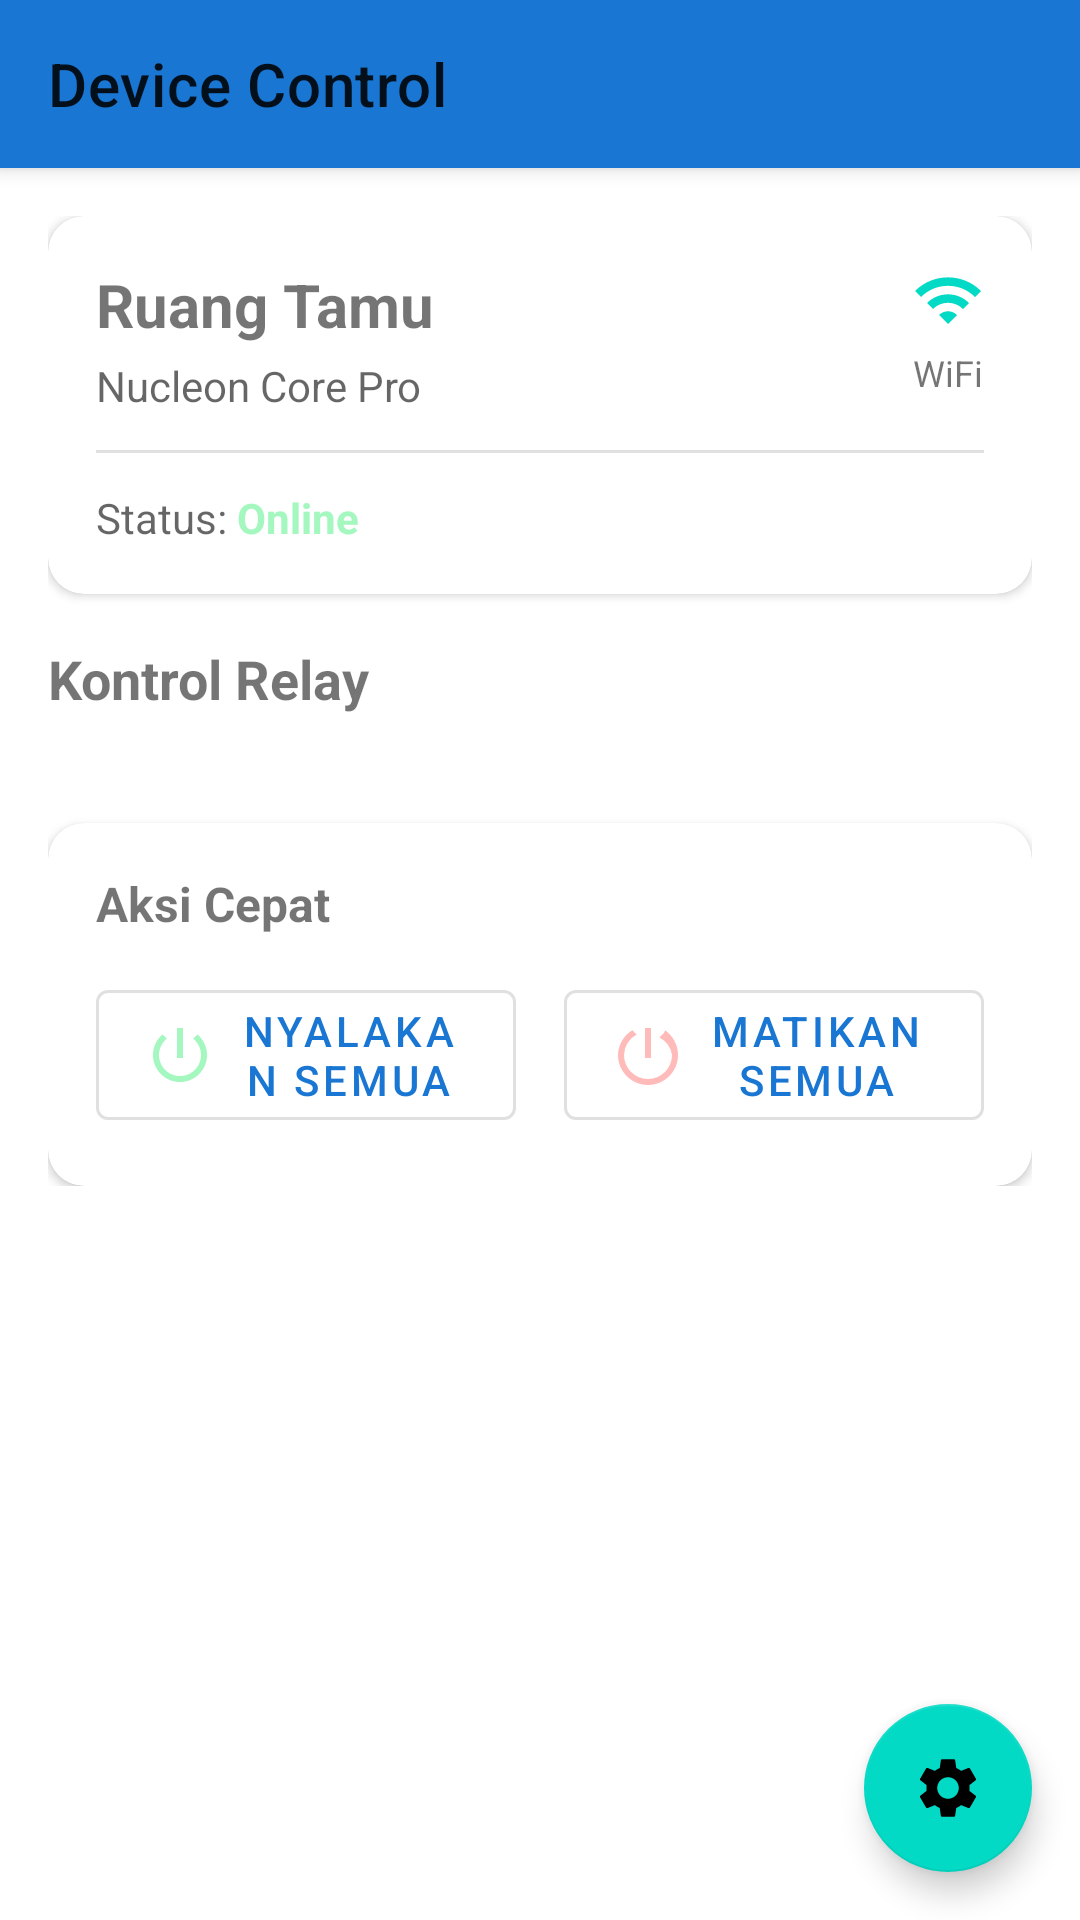

Locate icon controls on the screen. Image size 1080x1920, boxes as region(x1, y1, x2, y2).
settings: region(864, 1704, 1032, 1872)
